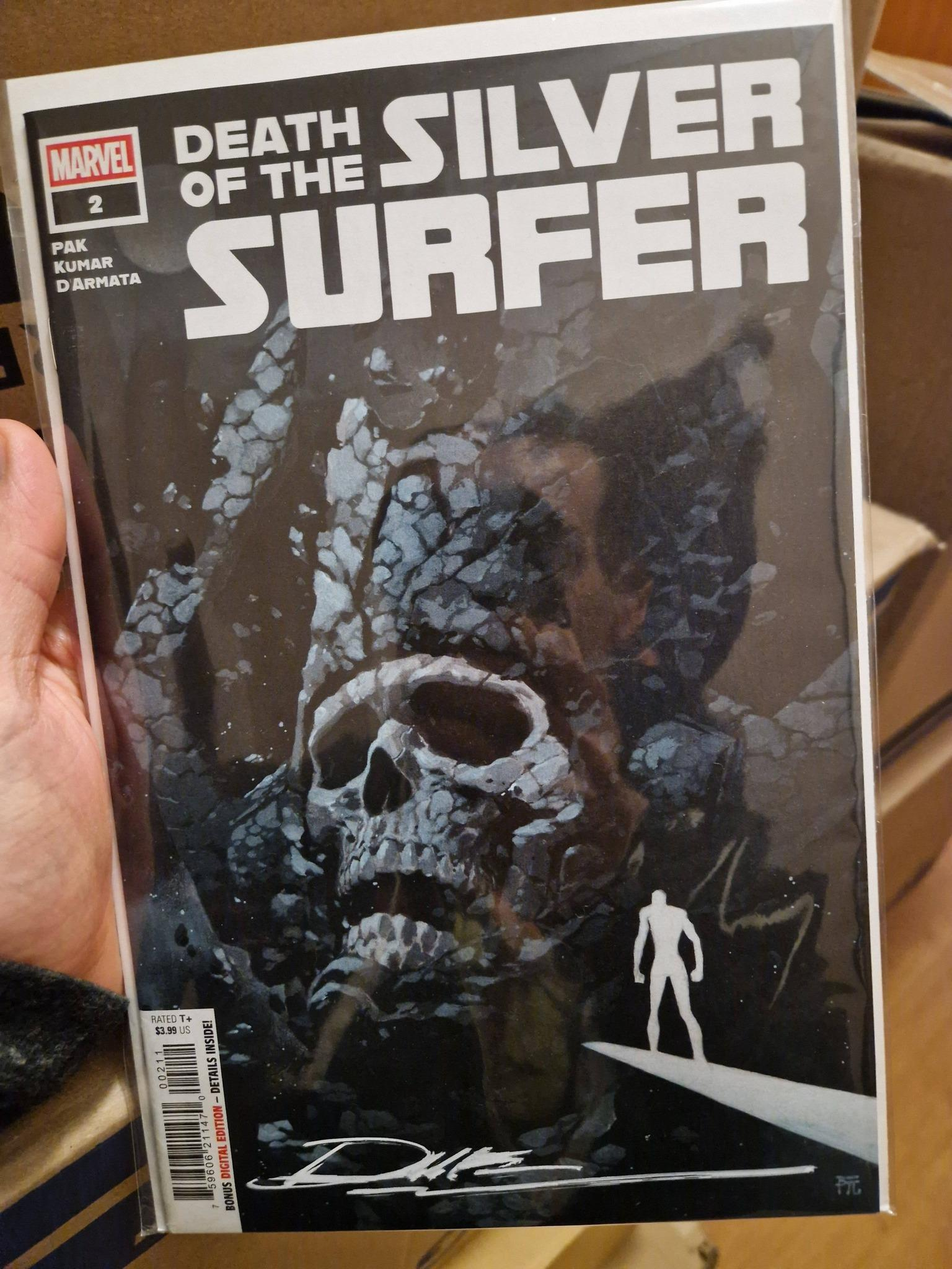comic: (0, 0, 940, 1269)
